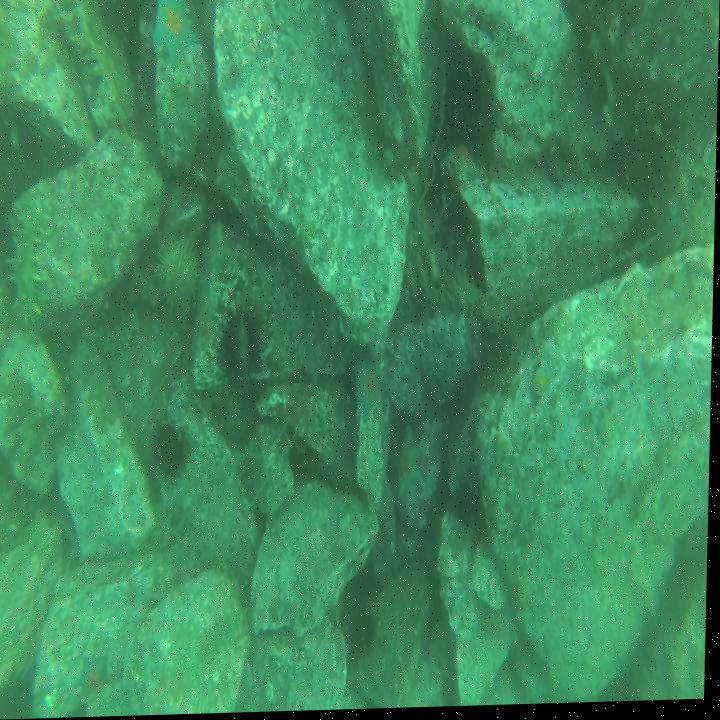echinus: (149, 226, 207, 314), (213, 302, 268, 392), (152, 420, 199, 490)
holothurian: (8, 207, 48, 330), (199, 612, 252, 674), (84, 308, 140, 363)
starfish: (151, 0, 201, 70), (394, 425, 430, 516), (352, 359, 387, 431), (439, 143, 494, 188), (78, 656, 112, 702)
